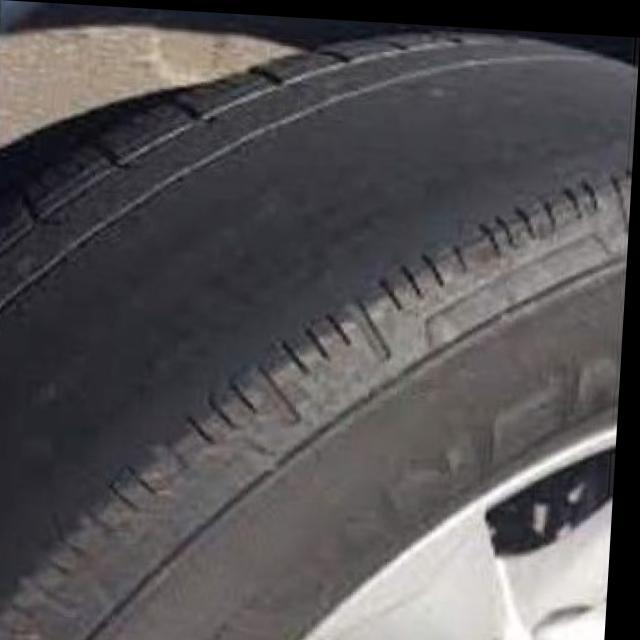Flat spots: (0, 64, 633, 494)
